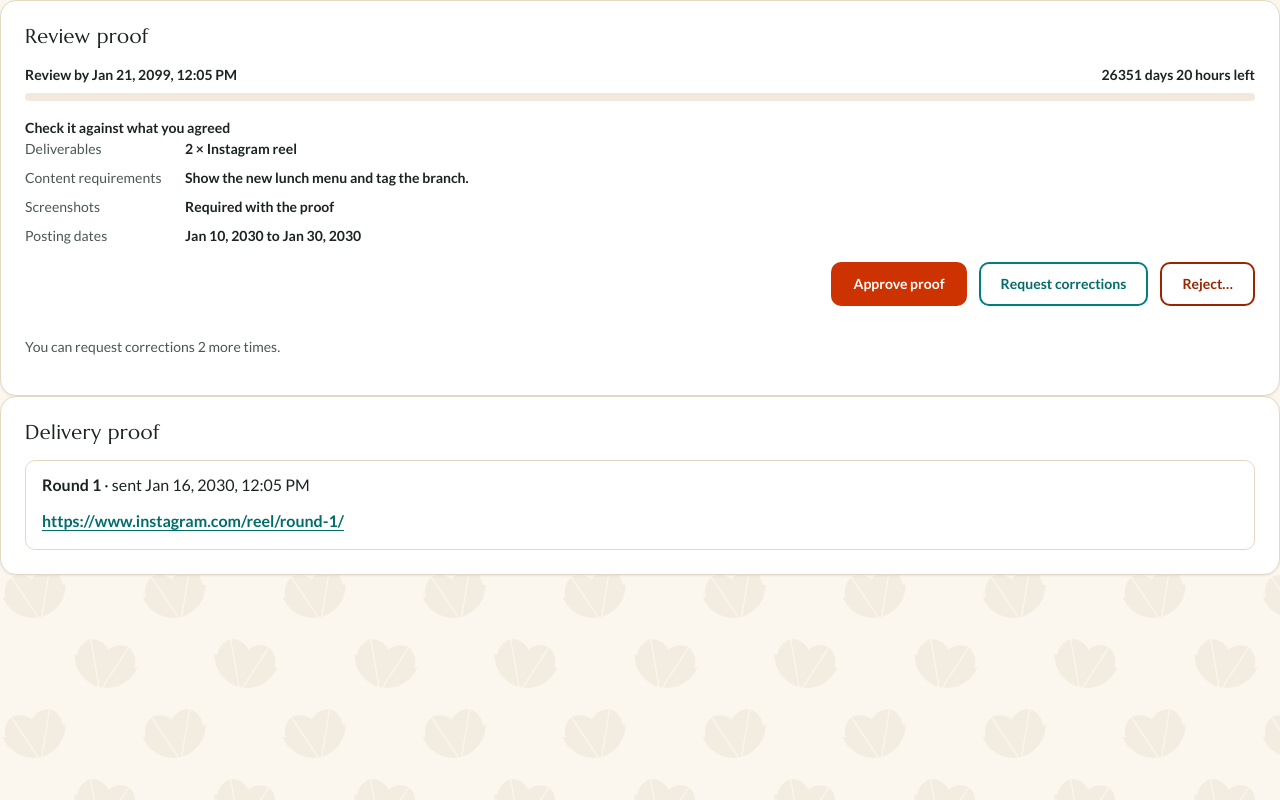
will not reject without a reason, and sends the reason trimmed
Click the button "Reject…" at (1208, 284), box [1160,262,1255,306]
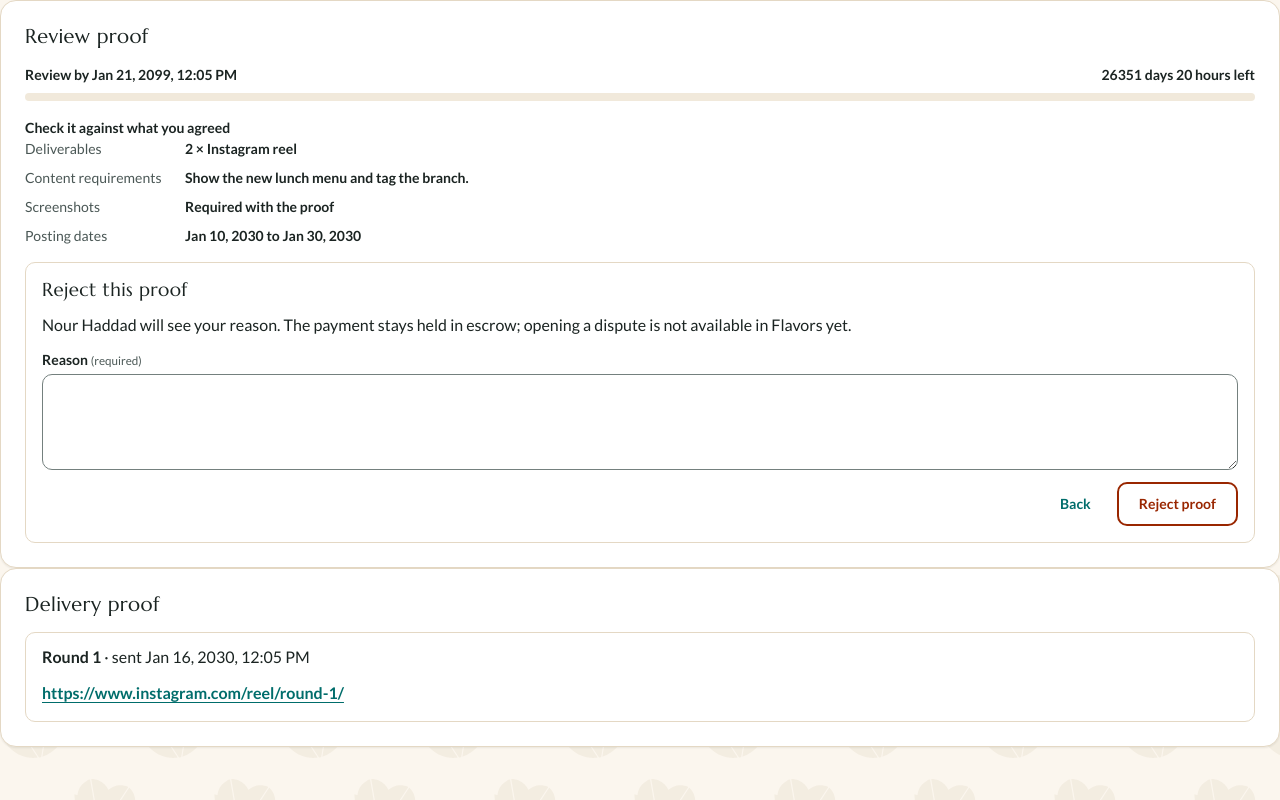
Click the button "Reject proof" at (1177, 504), box [1117,482,1238,526]
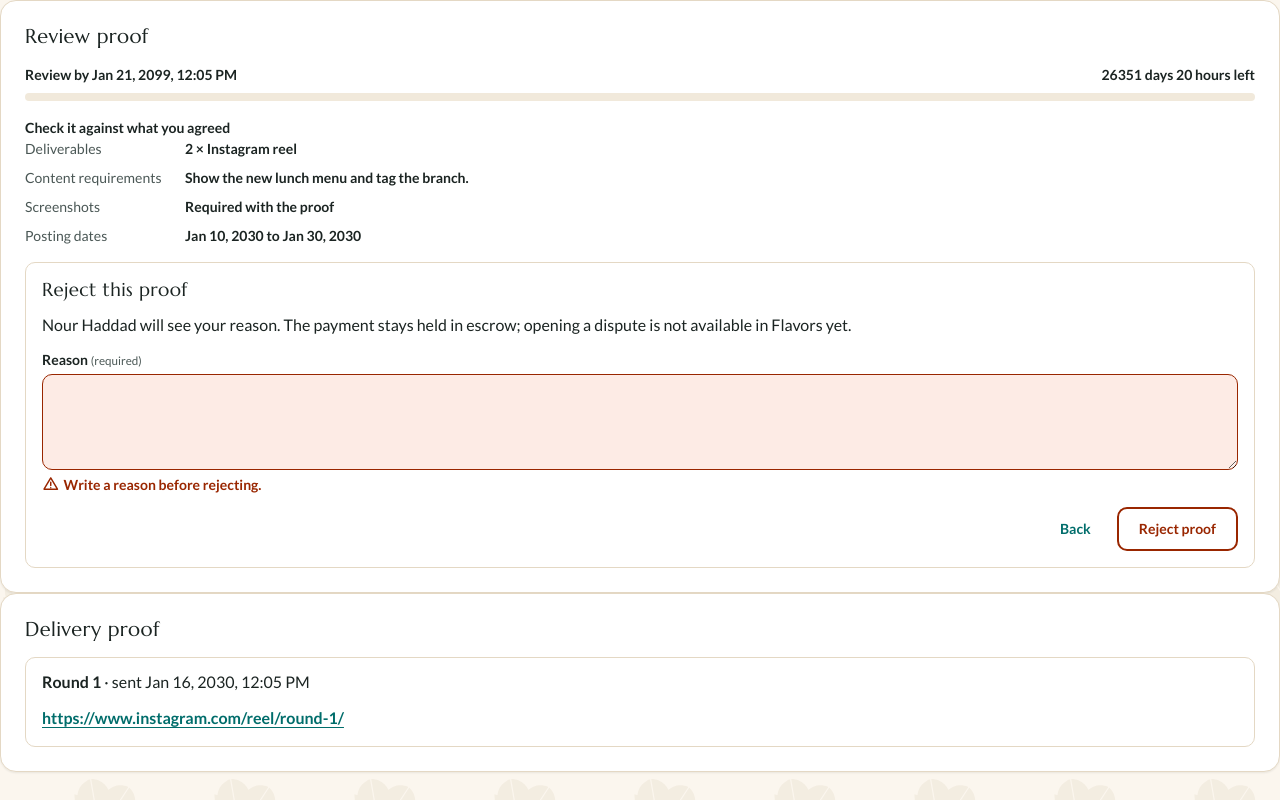
Result: the text "Write a reason before rejecting." is shown at [42,475,262,493]
Type "  Never posted.  " into the text box labelled "Reason (required)" at (640, 422), box [42,374,1238,470]
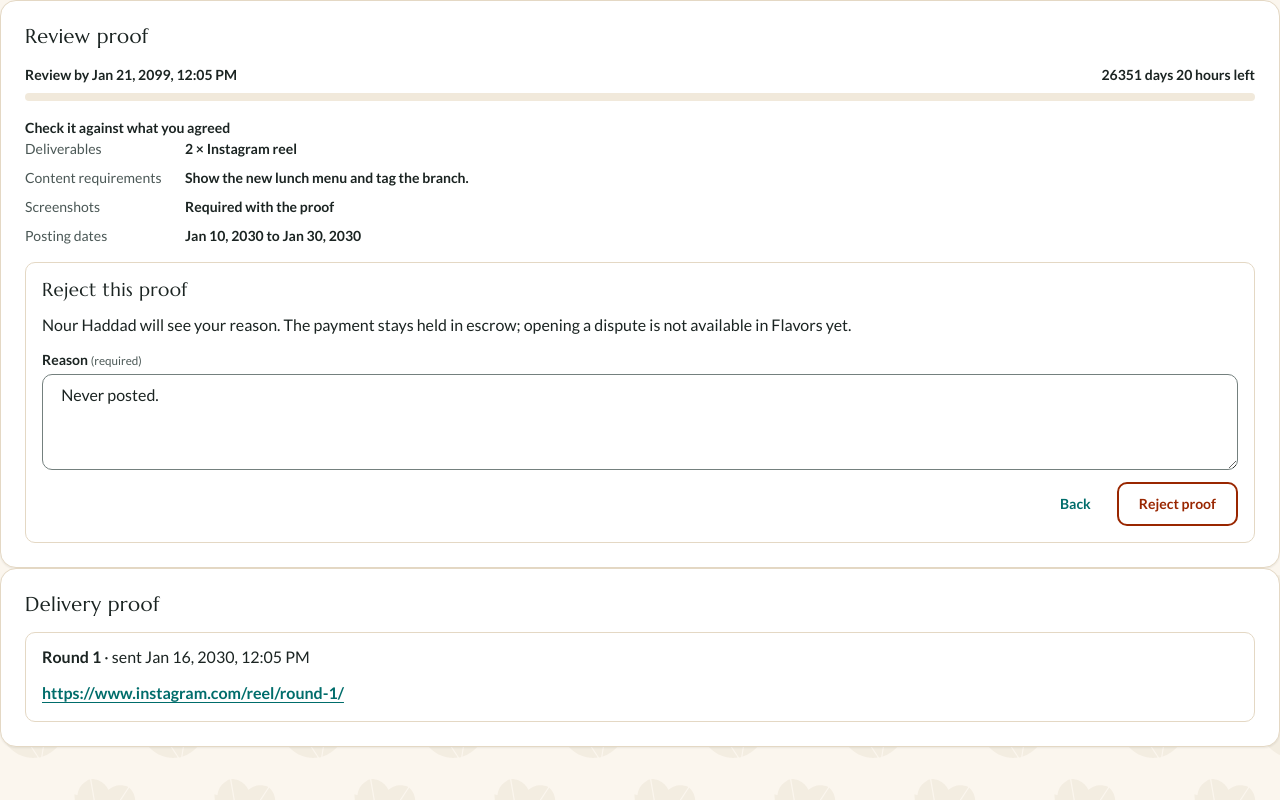
Click the button "Reject proof" at (1177, 504), box [1117,482,1238,526]
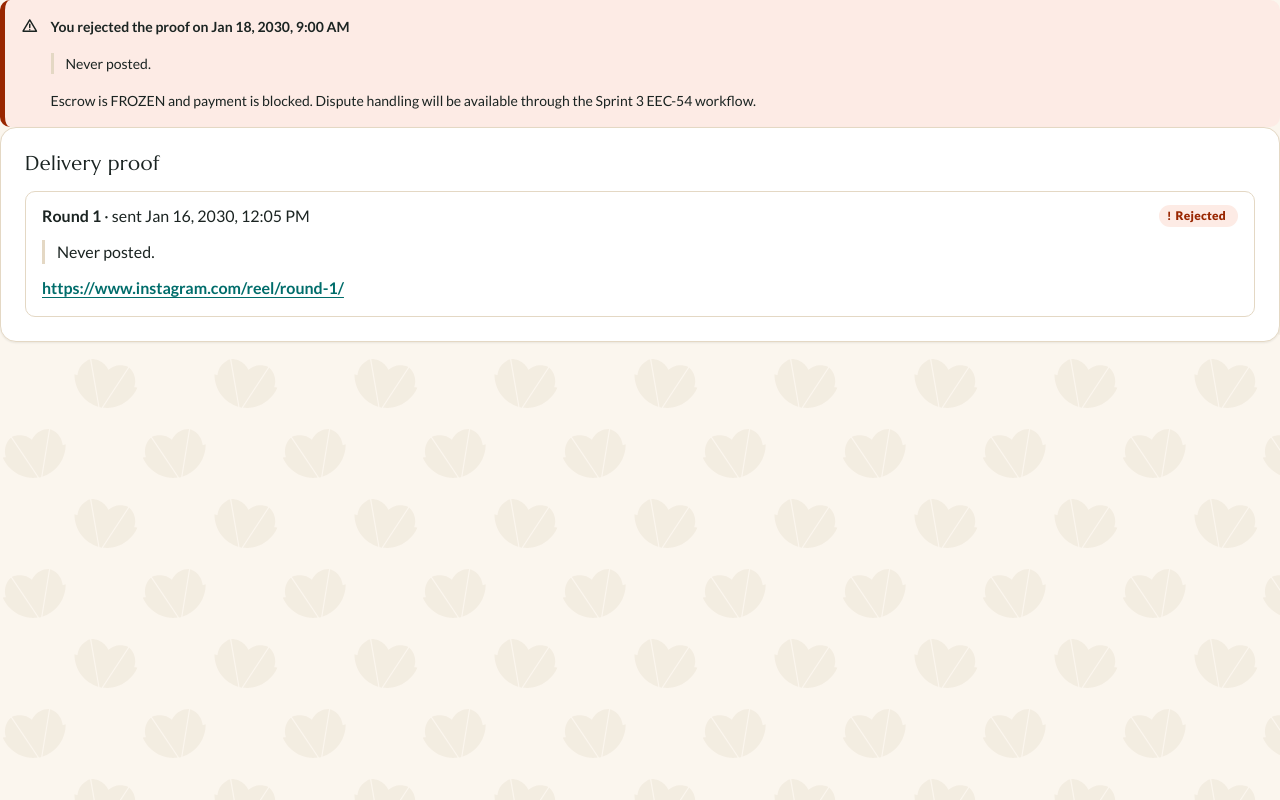
Result: the text "You rejected the proof on Jan 18, 2030, 9:00 AM" is shown at [50,18,350,35]
